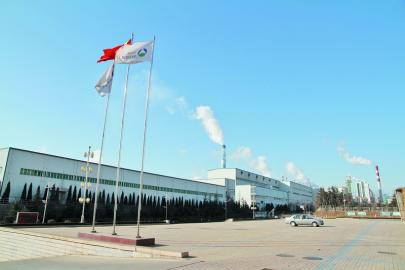dust: (187, 99, 236, 149), (338, 147, 388, 171)
